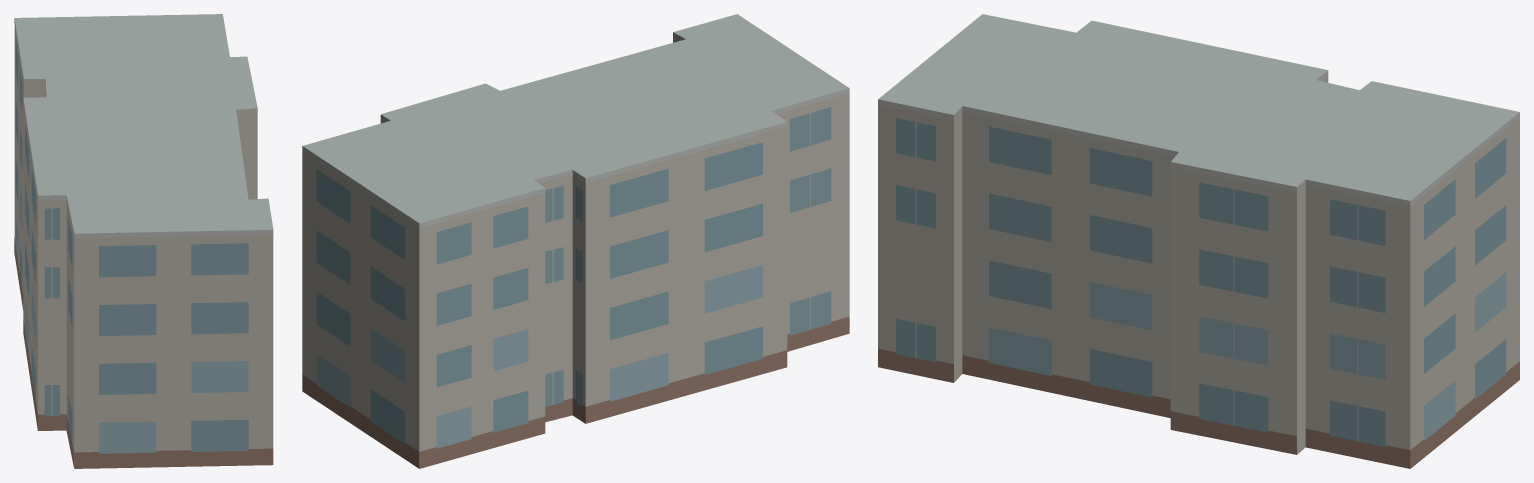
The model's file is survey-upis-32901252.glb.
The picture shows the model from 3 angles, left to right: view 1: azimuth 30°, elevation 25°; view 2: azimuth 150°, elevation 25°; view 3: azimuth 270°, elevation 25°; orthographic projection. The views are drawn at different scales.
Visible parts, largest first — view 1: survey-upis-32901252.tmp; view 2: survey-upis-32901252.tmp; view 3: survey-upis-32901252.tmp.
Boxes of the visible parts, box(x1,y1,x2,y2) form: survey-upis-32901252.tmp: box(14, 14, 273, 468); survey-upis-32901252.tmp: box(302, 14, 849, 468); survey-upis-32901252.tmp: box(878, 14, 1519, 468).
Bounding box in the file's own units: 18.57 × 12.4 × 26.93.
